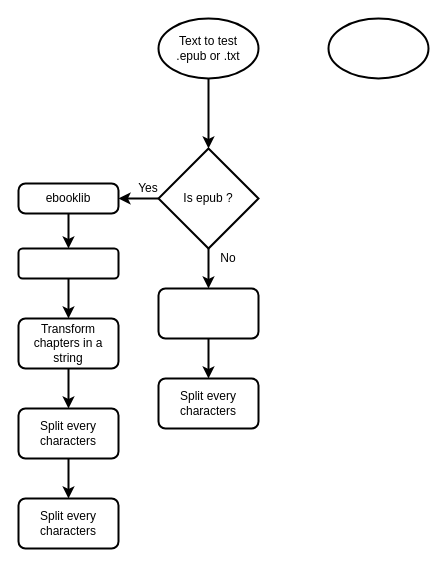
Image size: 446x566. Some labels were removed from this diagram. Here are the shapes that lost their labels. From the top down, the centre of each, then its label:
(x=378, y=48): Keyboard layout
(x=68, y=263): Get chapters list
(x=208, y=313): Open text
